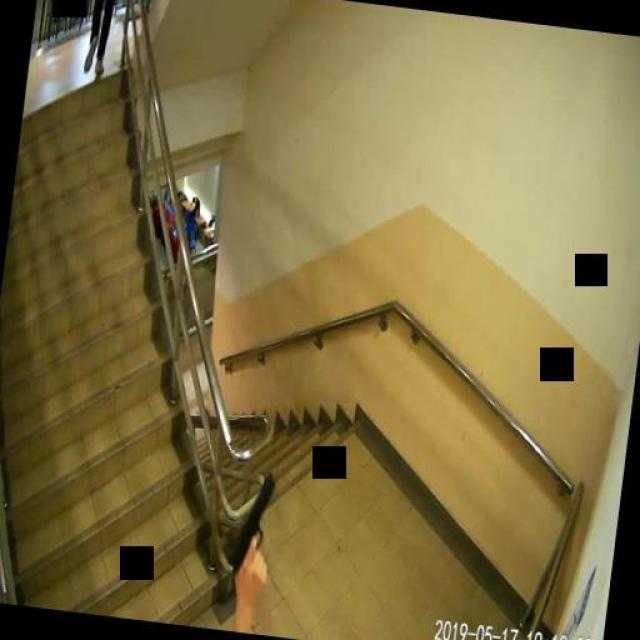gun: (225, 468, 279, 592)
